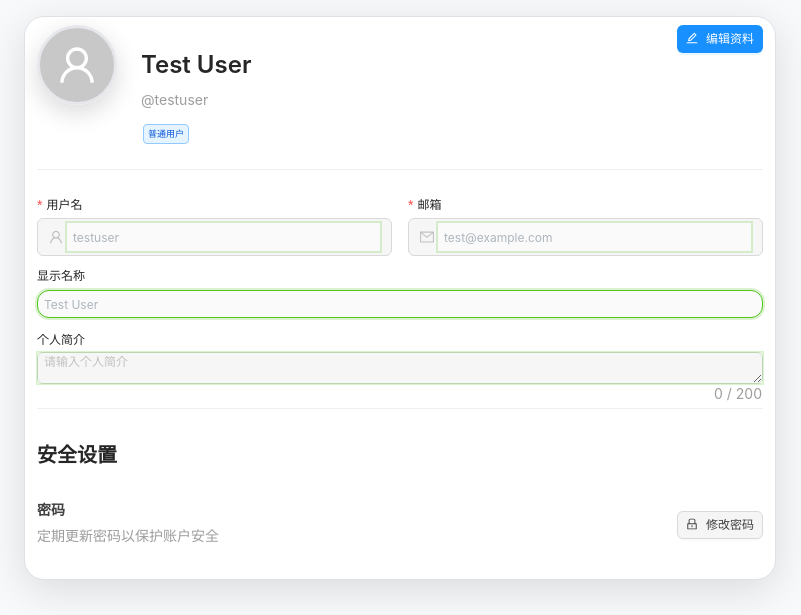
Test: UserProfile › should cancel edit mode
The width and height of the screenshot is (801, 615).
Click the button named "edit 编辑资料" at coordinates (720, 39), box 677,25 -> 763,53
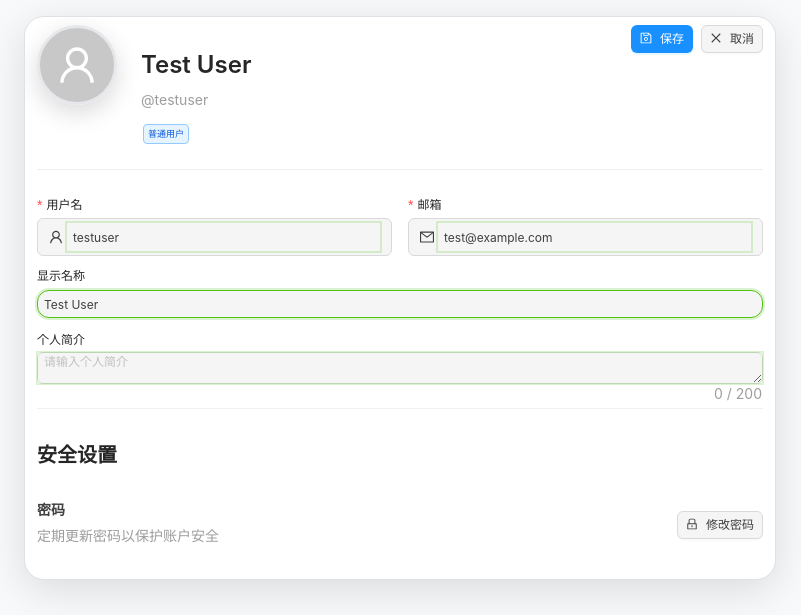
Type "Updated Name" into the text box labelled "个人简介" at coordinates (400, 368), box 38,353 -> 762,383
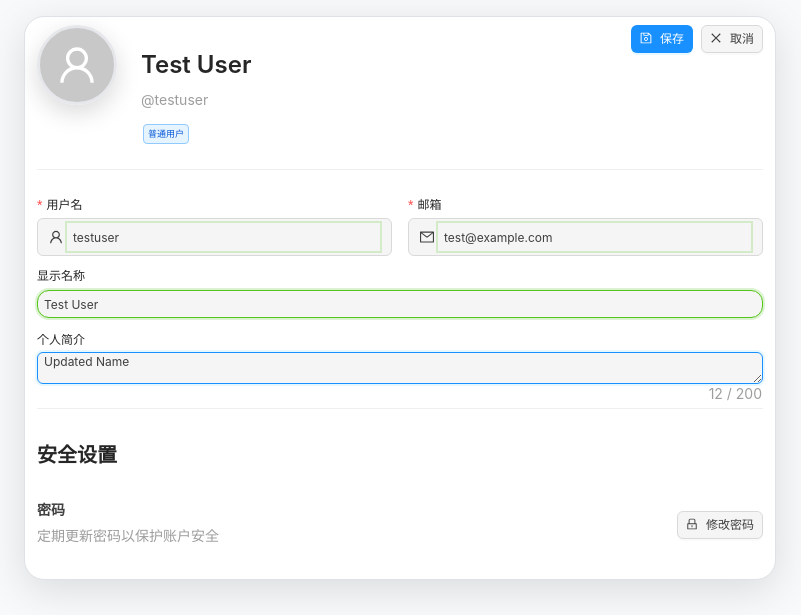
Click the button named "close 取消" at coordinates (732, 39), box 701,25 -> 763,53
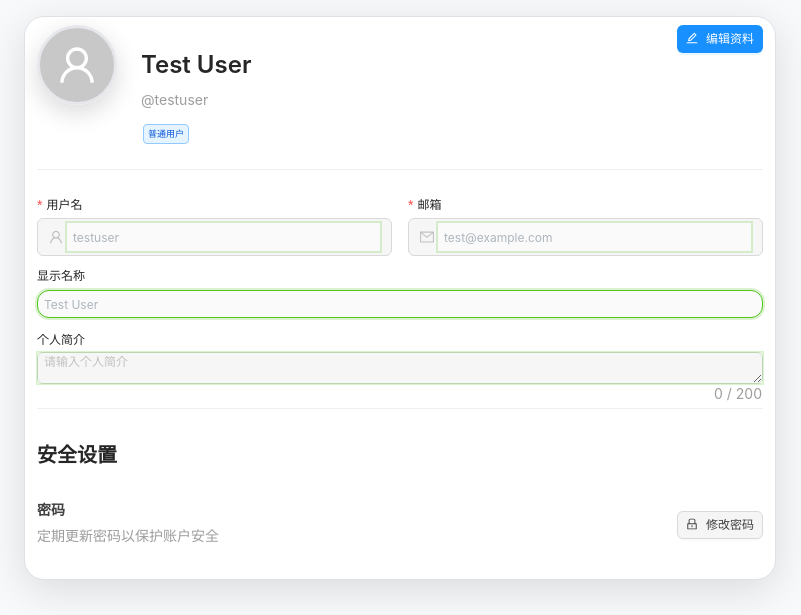
Check: the button named "edit 编辑资料" is shown, box 677,25 -> 763,53
